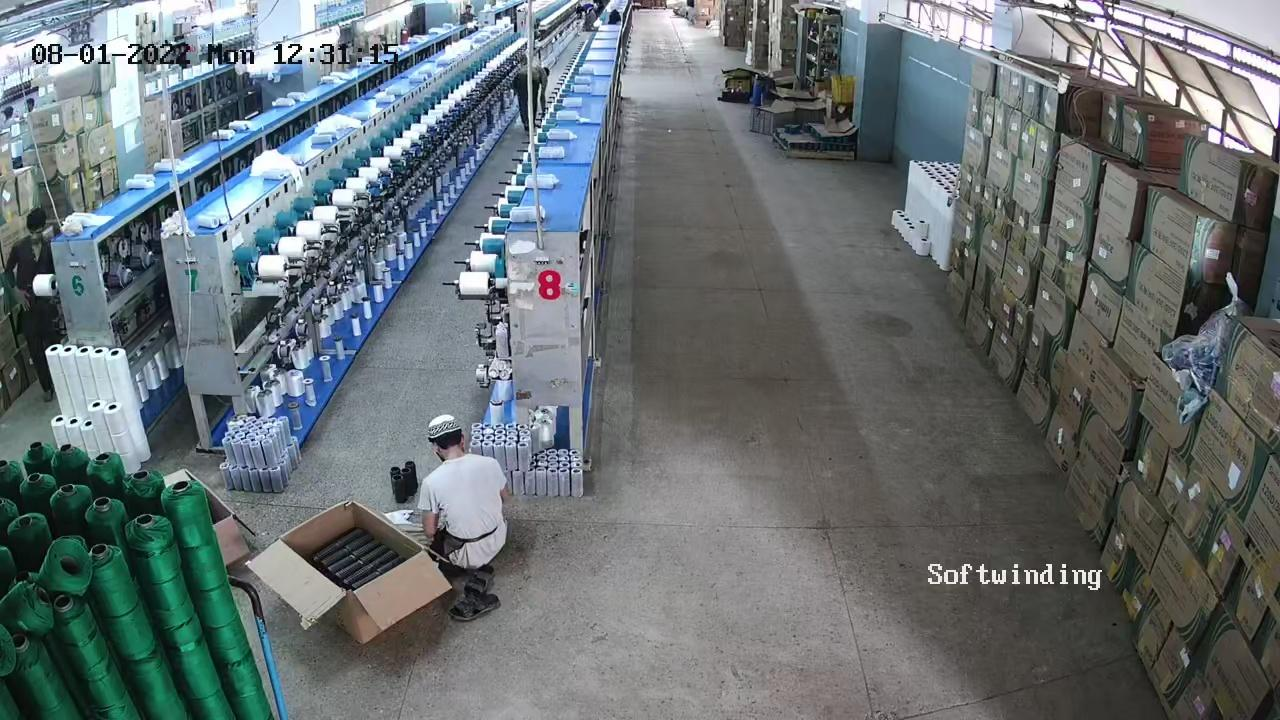person: (437, 417, 510, 565), (19, 215, 51, 318), (509, 62, 557, 108)
